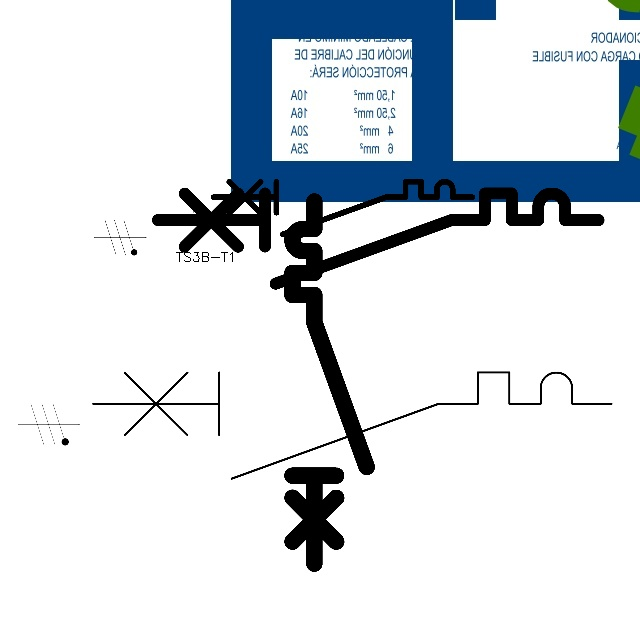interruptor_termomagnetico: (79, 359, 624, 492), (146, 182, 609, 295), (283, 192, 376, 573), (206, 175, 478, 241)
